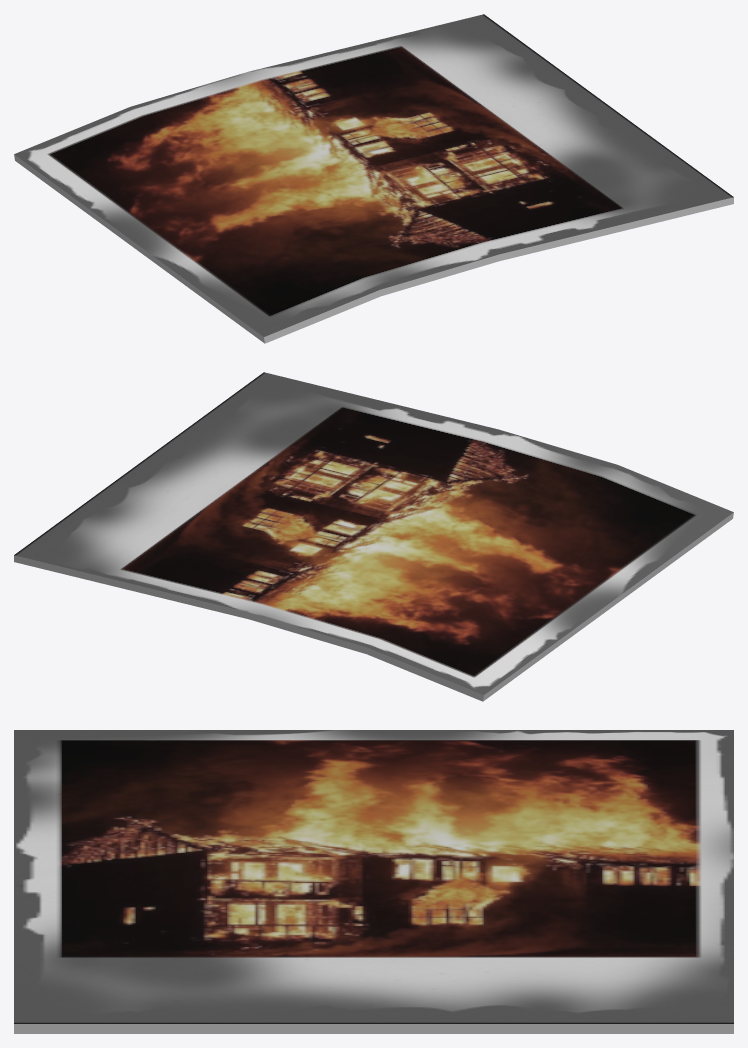
Rendered from ITEMS4.fbx.
3 renders of one model, top to bottom at view 1: azimuth 30°, elevation 25°; view 2: azimuth 150°, elevation 25°; view 3: azimuth 270°, elevation 25°, orthographic. The views are drawn at different scales.
Parts seen in each view (by area): view 1: ITEMS4; view 2: ITEMS4; view 3: ITEMS4.
Boxes of the visible parts, x1=… form: ITEMS4: x1=14, y1=14, x2=733, y2=343; ITEMS4: x1=14, y1=372, x2=733, y2=701; ITEMS4: x1=14, y1=730, x2=733, y2=1033.
Size of the model in its own units: 16.75 by 1.1 by 15.43.
1 material, 1 textured.
